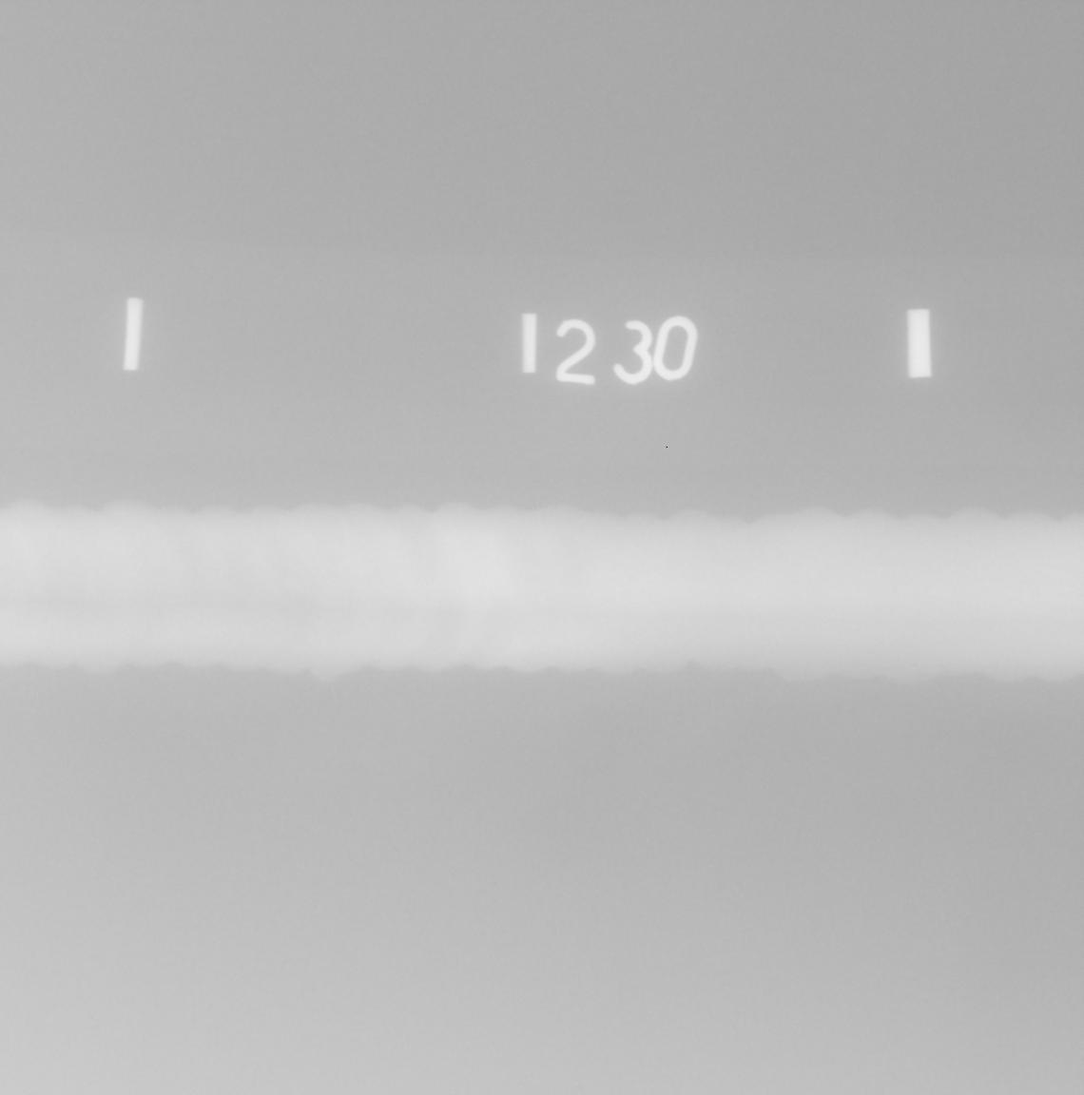Inclusion: (38, 585, 55, 594)
Pore/Porosity: (316, 616, 319, 619)
